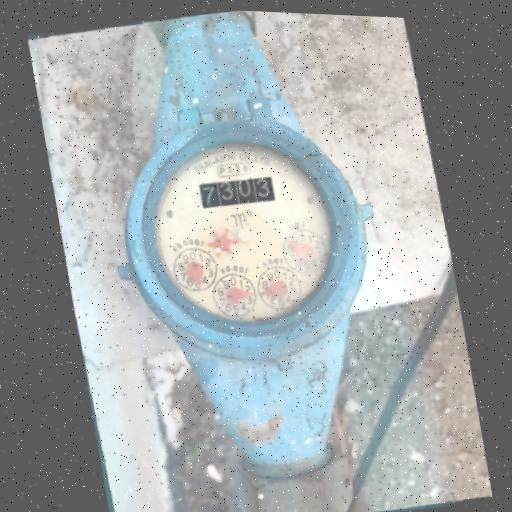0: (236, 178, 255, 204)
3: (253, 175, 275, 202), (217, 180, 238, 206)
7: (199, 181, 221, 209)
border_water_meter_number: (197, 172, 276, 212)
